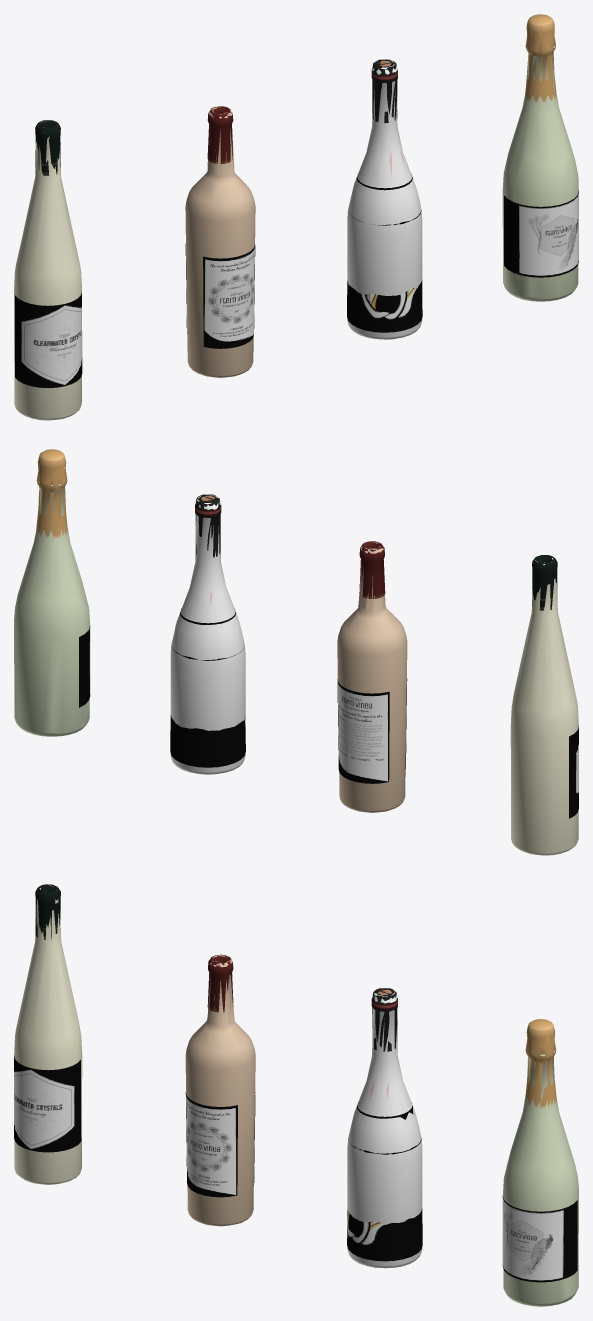
The model's file is wine_bottles_01.glb.
3 views of the same model, one above another, from view 1: azimuth 30°, elevation 25°; view 2: azimuth 150°, elevation 25°; view 3: azimuth 330°, elevation 25° (orthographic).
Visible parts, largest first — view 1: wine_bottles_01_bordeaux, wine_bottles_01_alsace, wine_bottles_01_champagne, wine_bottles_01_burgundy; view 2: wine_bottles_01_bordeaux, wine_bottles_01_burgundy, wine_bottles_01_champagne, wine_bottles_01_alsace; view 3: wine_bottles_01_bordeaux, wine_bottles_01_alsace, wine_bottles_01_champagne, wine_bottles_01_burgundy.
Part boxes in pixels (<box>): wine_bottles_01_bordeaux: <box>14,14,578,420</box>; wine_bottles_01_alsace: <box>15,292,82,387</box>; wine_bottles_01_champagne: <box>504,190,578,277</box>; wine_bottles_01_burgundy: <box>347,152,422,332</box>; wine_bottles_01_bordeaux: <box>14,449,578,855</box>; wine_bottles_01_burgundy: <box>170,592,245,767</box>; wine_bottles_01_champagne: <box>79,626,90,707</box>; wine_bottles_01_alsace: <box>569,727,578,818</box>; wine_bottles_01_bordeaux: <box>14,884,578,1306</box>; wine_bottles_01_alsace: <box>14,1056,81,1152</box>; wine_bottles_01_champagne: <box>502,1196,577,1282</box>; wine_bottles_01_burgundy: <box>347,1081,422,1261</box>.
Bounding box in the file's own units: 0.6763 × 0.3314 × 0.0805.
9 materials, 6 textured.
